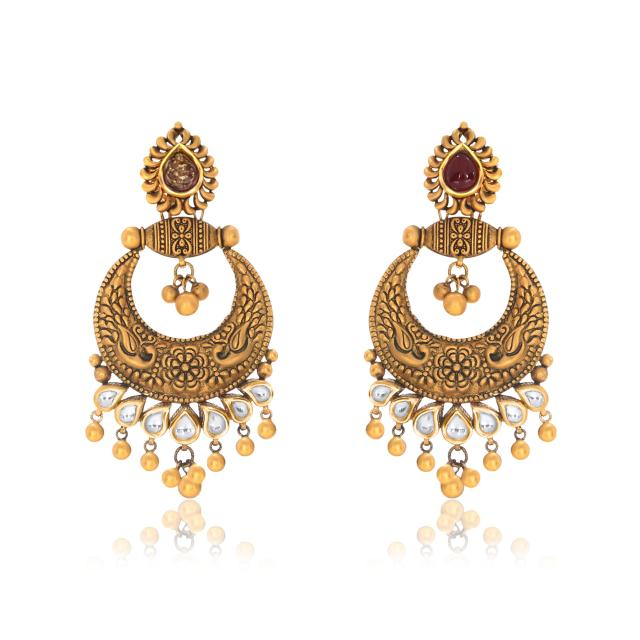missing gem: (162, 147, 199, 194)
